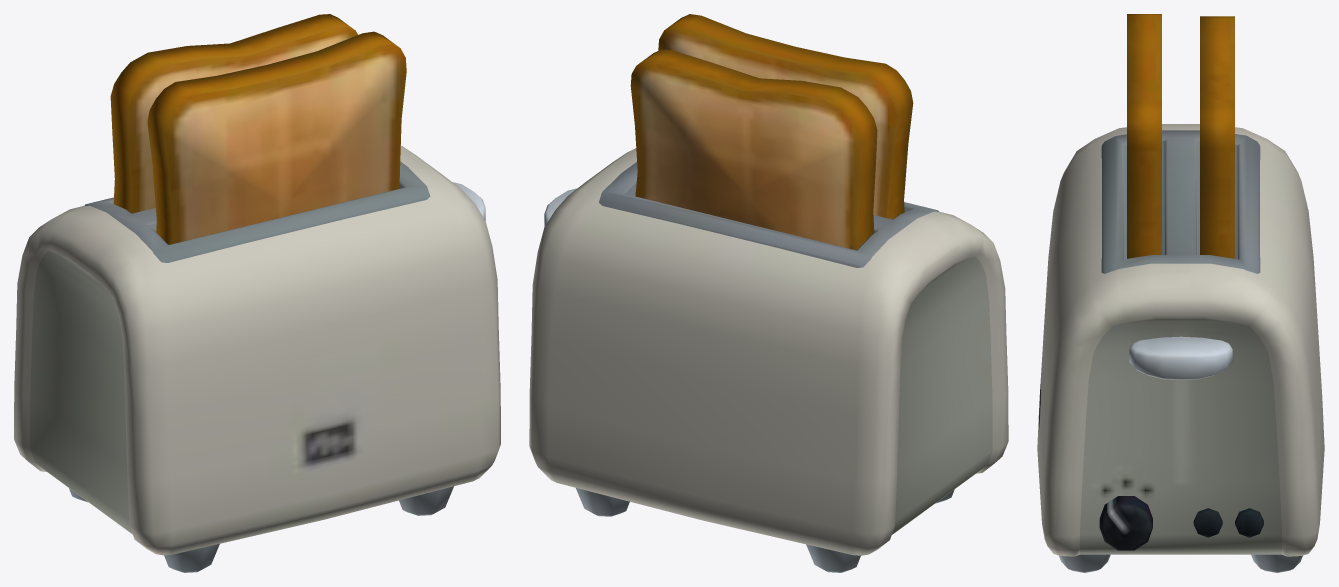
The picture shows the model from 3 angles, left to right: view 1: azimuth 30°, elevation 25°; view 2: azimuth 150°, elevation 25°; view 3: azimuth 270°, elevation 25°; orthographic projection.
Size of the model in its own units: 5.48 by 5.93 by 3.42.
Materials: 1 (1 with a texture image).
